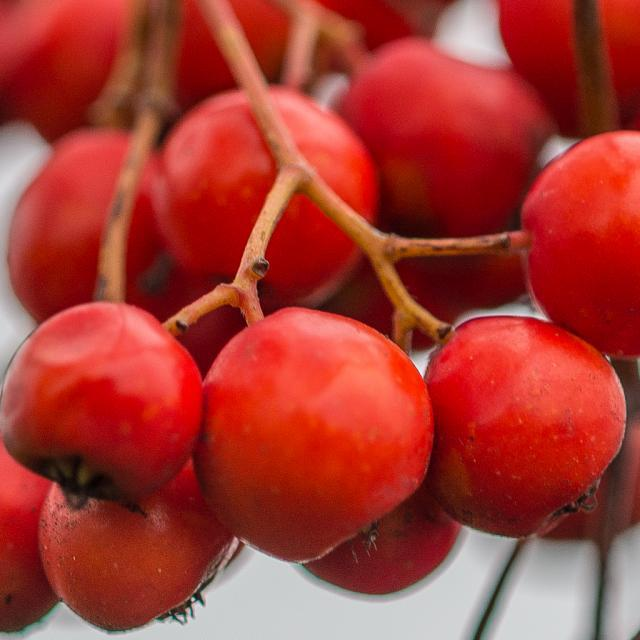Tomato: (0, 0, 639, 639), (187, 303, 449, 559)
